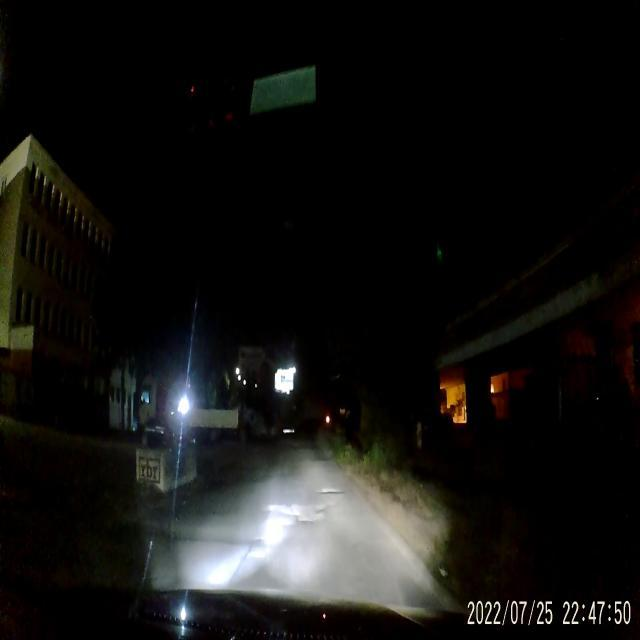Pothole: (265, 498, 328, 524), (320, 486, 344, 498)
